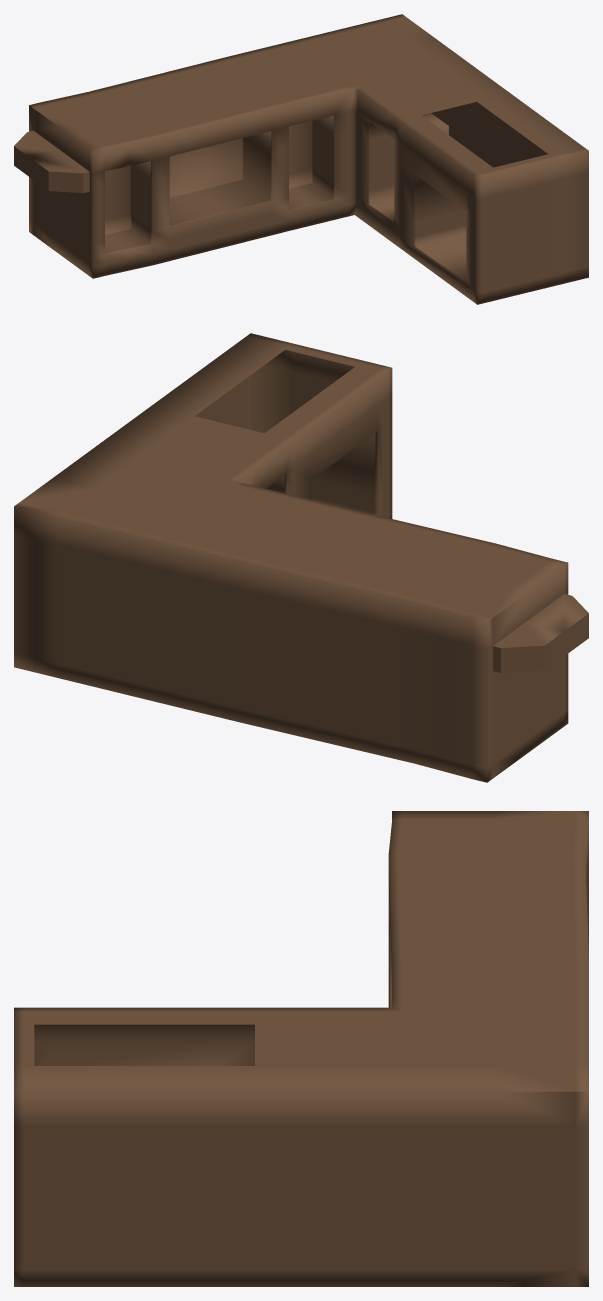
The model's file is kitchen counters.fbx.
3 renders of one model, top to bottom at view 1: azimuth 30°, elevation 25°; view 2: azimuth 150°, elevation 25°; view 3: azimuth 270°, elevation 25°, orthographic. The views are drawn at different scales.
Visible parts, largest first — view 1: Kitchen_counters; view 2: Kitchen_counters; view 3: Kitchen_counters.
Part boxes in pixels (x1,y1,x2,y2): Kitchen_counters: (14, 14, 588, 304); Kitchen_counters: (14, 333, 588, 782); Kitchen_counters: (14, 811, 588, 1286).
Bounding box in the file's own units: 591 × 177 × 473.
